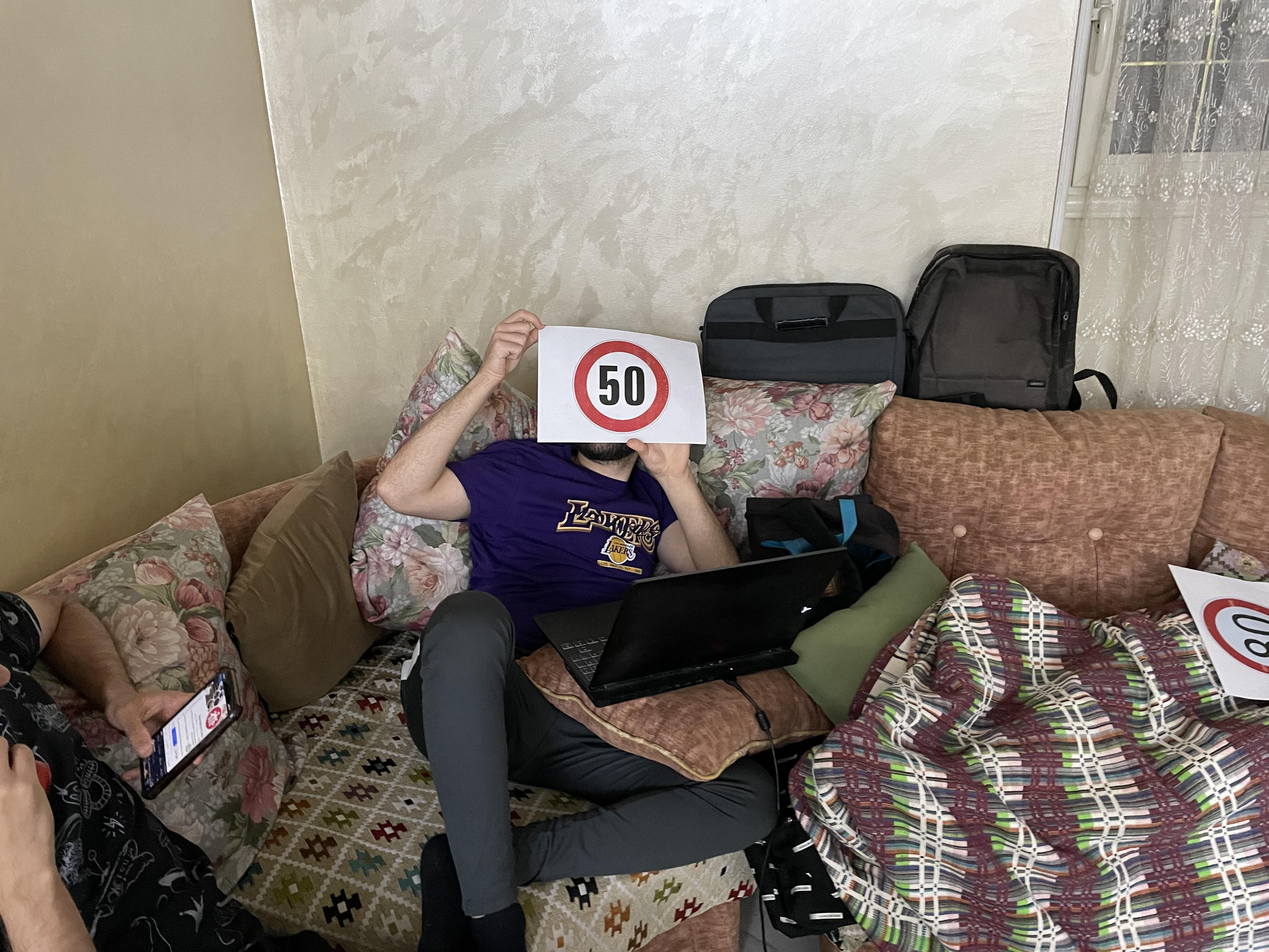50-Speed: (573, 337, 676, 433)
